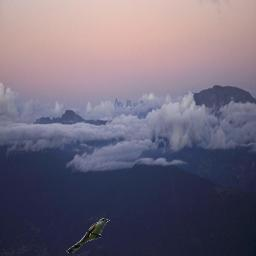Cuckoo: (66, 218, 110, 253)
